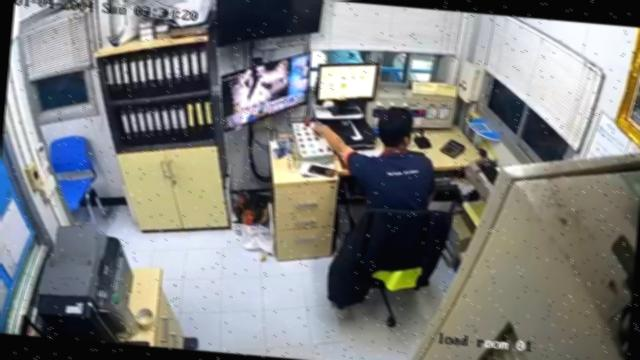Head: (376, 106, 414, 148)
People: (313, 107, 437, 211)
Phone: (307, 163, 336, 176)
